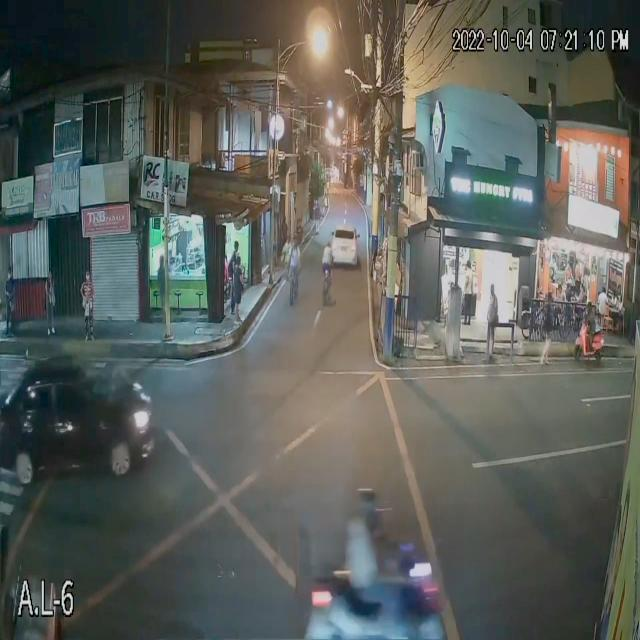Half-Faced: (352, 485, 393, 538)
